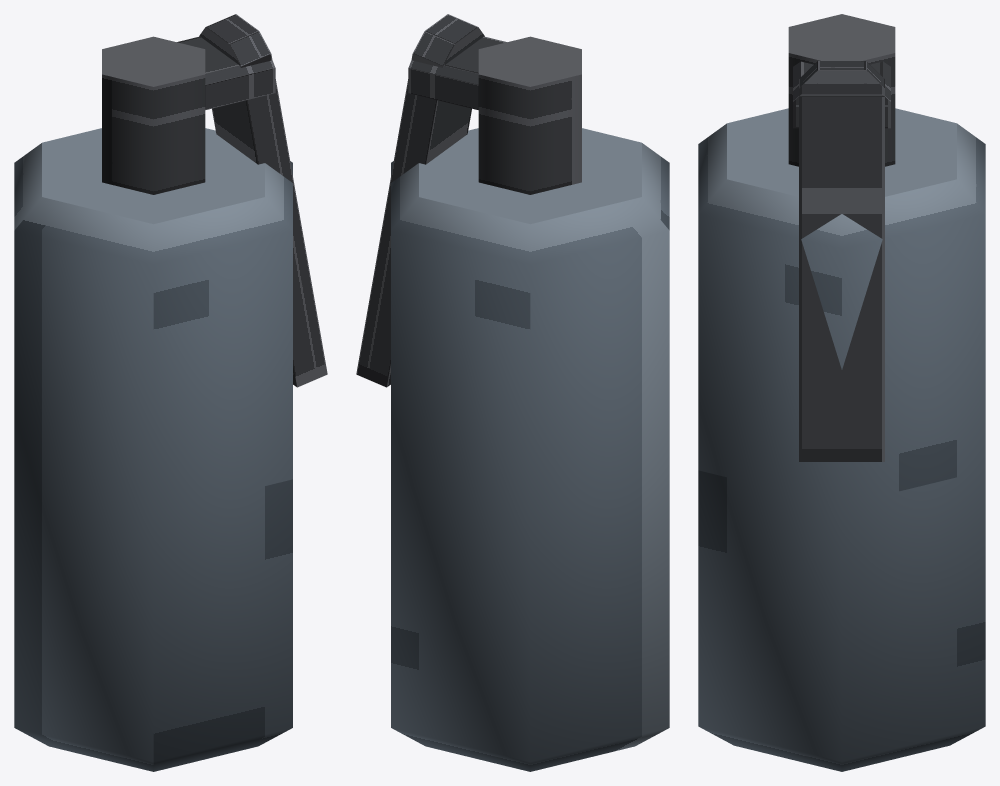
File: SmokeGrenade.glb
3 views of the same model, side by side, from view 1: azimuth 30°, elevation 25°; view 2: azimuth 150°, elevation 25°; view 3: azimuth 270°, elevation 25° (orthographic). The views are drawn at different scales.
Parts seen in each view (by area): view 1: SmokeGrenade; view 2: SmokeGrenade; view 3: SmokeGrenade.
Part boxes in pixels (left/top/right/bottom): SmokeGrenade: left=14, top=14, right=327, bottom=771; SmokeGrenade: left=356, top=14, right=669, bottom=771; SmokeGrenade: left=698, top=14, right=985, bottom=771.
Size of the model in its own units: 0.0567 by 0.125 by 0.0468.
1 material, 1 textured.
